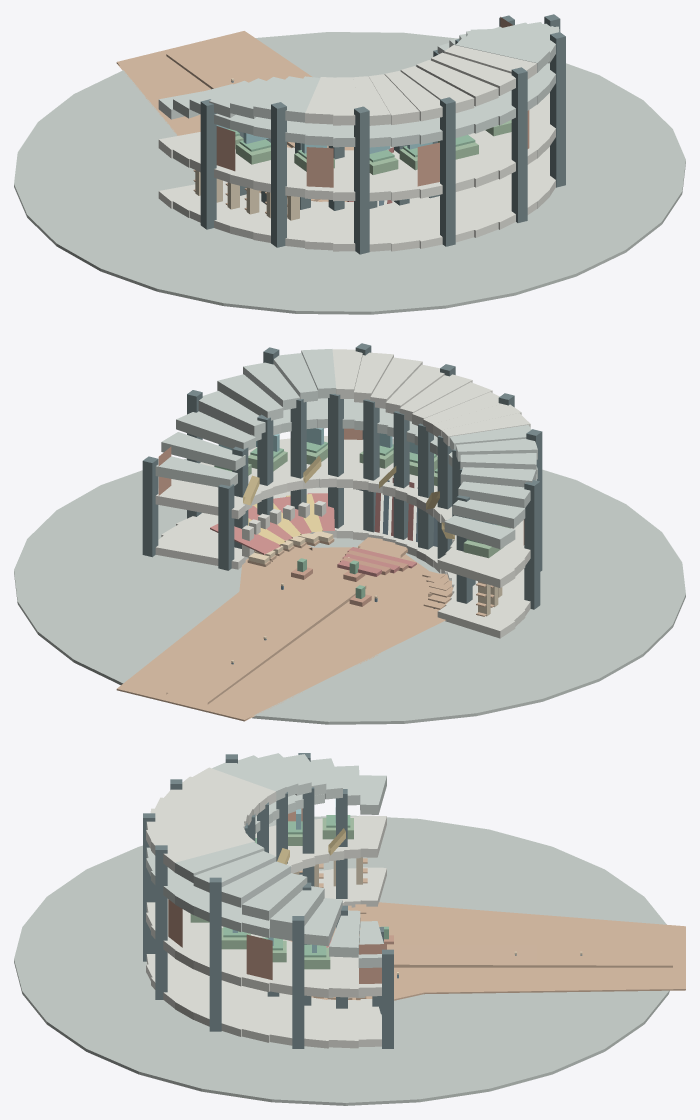
The model's file is a48_inhabited_civic_forum.glb.
3 views of the same model, one above another, from view 1: azimuth 30°, elevation 25°; view 2: azimuth 150°, elevation 25°; view 3: azimuth 270°, elevation 25° (orthographic).
Bounding box in the file's own units: 156 × 39.29 × 154.
